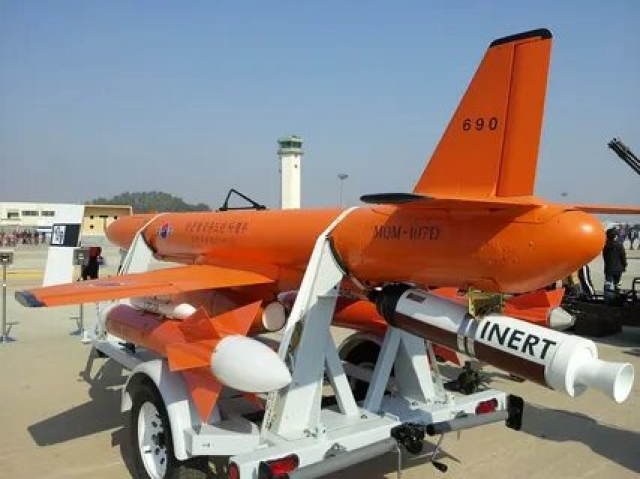military drone: (0, 26, 640, 305)
